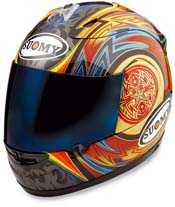helmet: (12, 1, 174, 190)
